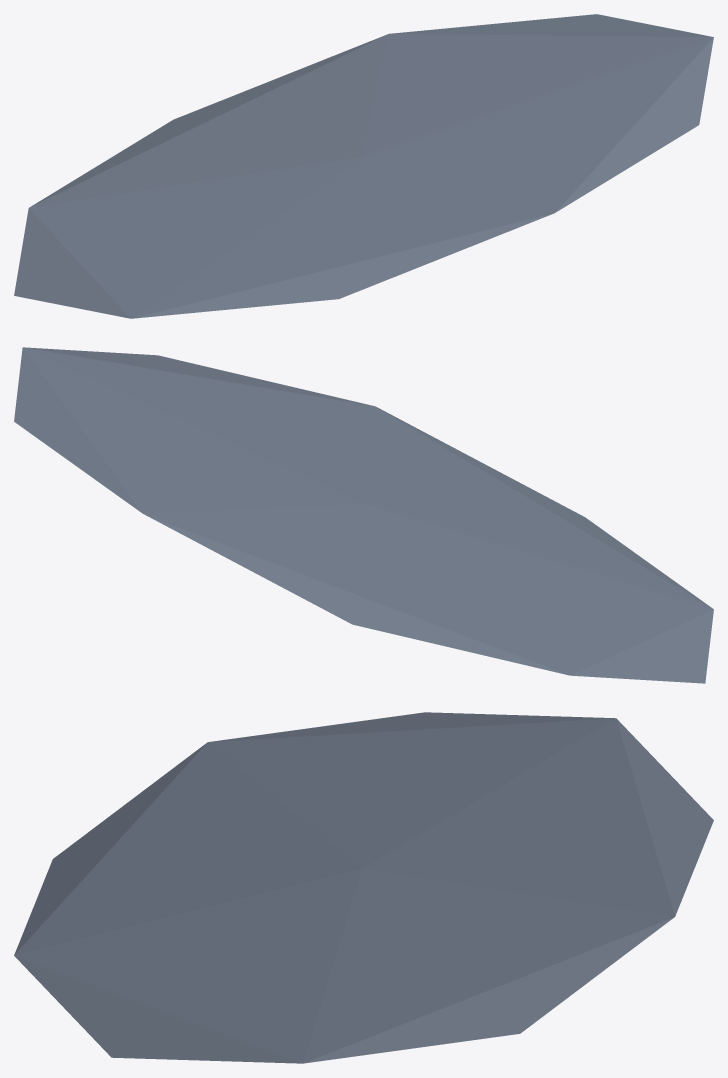
File: EXTG_SouthRoad_05.glb
3 renders of one model, top to bottom at view 1: azimuth 30°, elevation 25°; view 2: azimuth 150°, elevation 25°; view 3: azimuth 270°, elevation 25°, orthographic. The views are drawn at different scales.
Visible parts, largest first — view 1: EXTG_SouthRoad_05; view 2: EXTG_SouthRoad_05; view 3: EXTG_SouthRoad_05.
Part boxes in pixels (x1=…): EXTG_SouthRoad_05: x1=14, y1=14, x2=713, y2=318; EXTG_SouthRoad_05: x1=14, y1=347, x2=713, y2=683; EXTG_SouthRoad_05: x1=14, y1=712, x2=713, y2=1063.
Bounding box in the file's own units: 2.32 × 0.4069 × 1.22.
